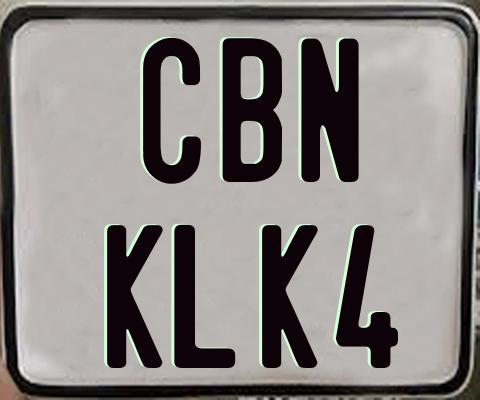4: (335, 225, 402, 372)
B: (220, 36, 285, 183)
C: (140, 36, 201, 184)
K: (104, 224, 162, 372), (262, 223, 318, 366)
L: (171, 223, 233, 371)
N: (298, 35, 359, 184)
